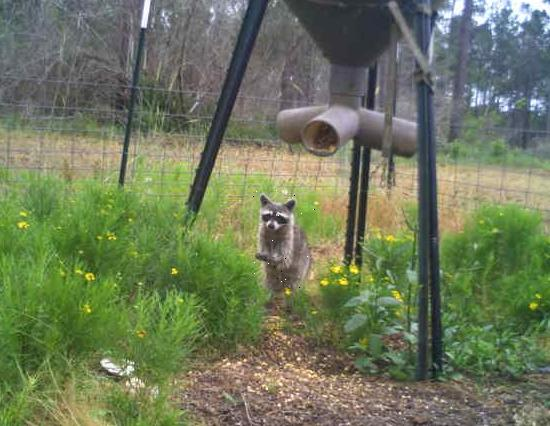Raccoon: (252, 191, 320, 300)
